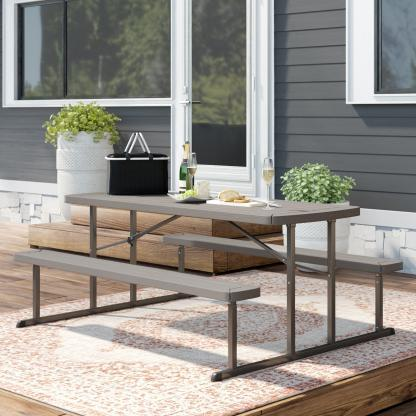table: (5, 181, 408, 387)
